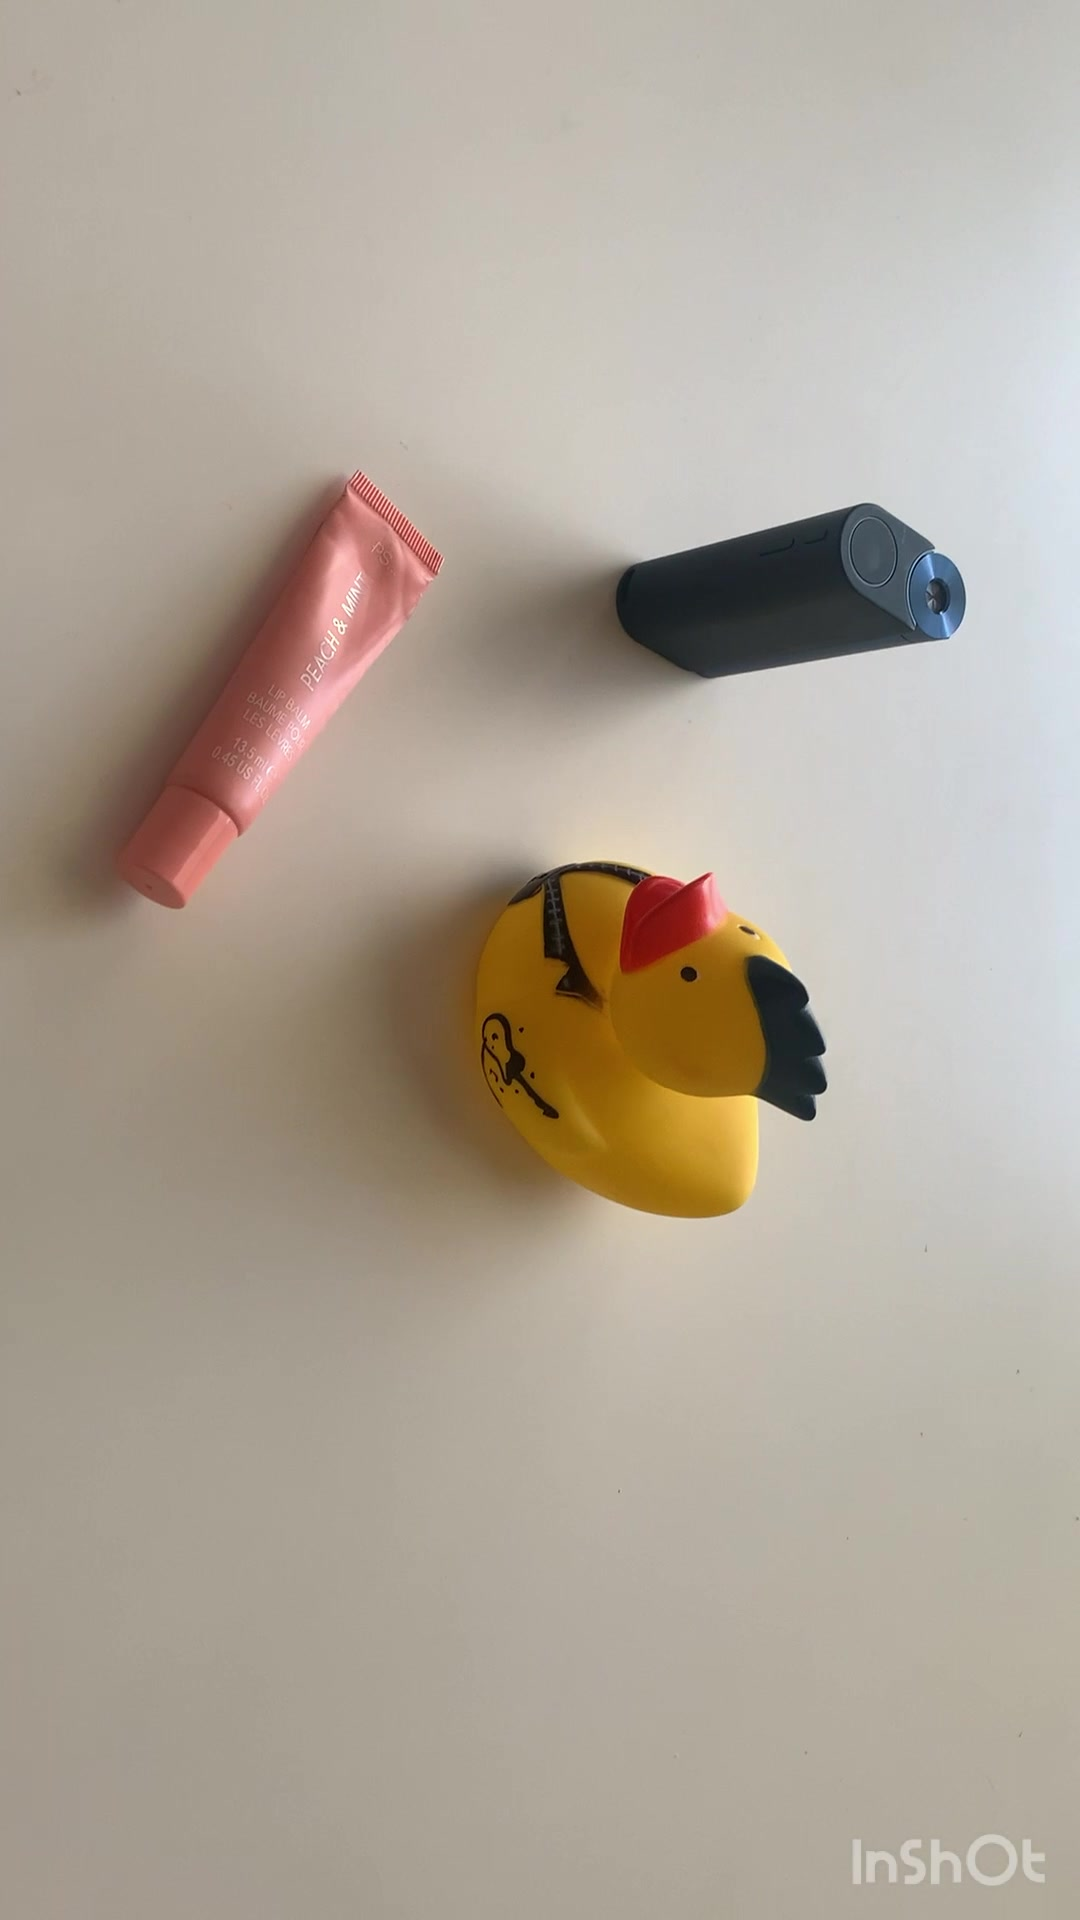duck: (469, 852, 823, 1226)
glo: (618, 505, 967, 682)
lip balm: (113, 472, 451, 913)
